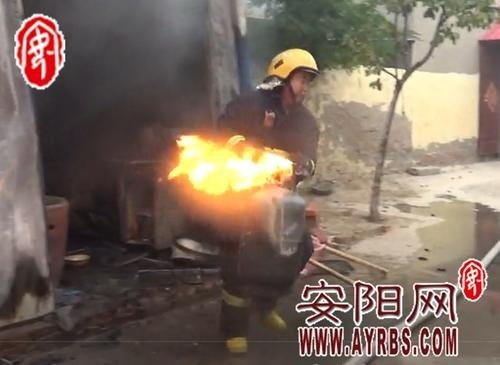fire: (164, 130, 297, 194)
